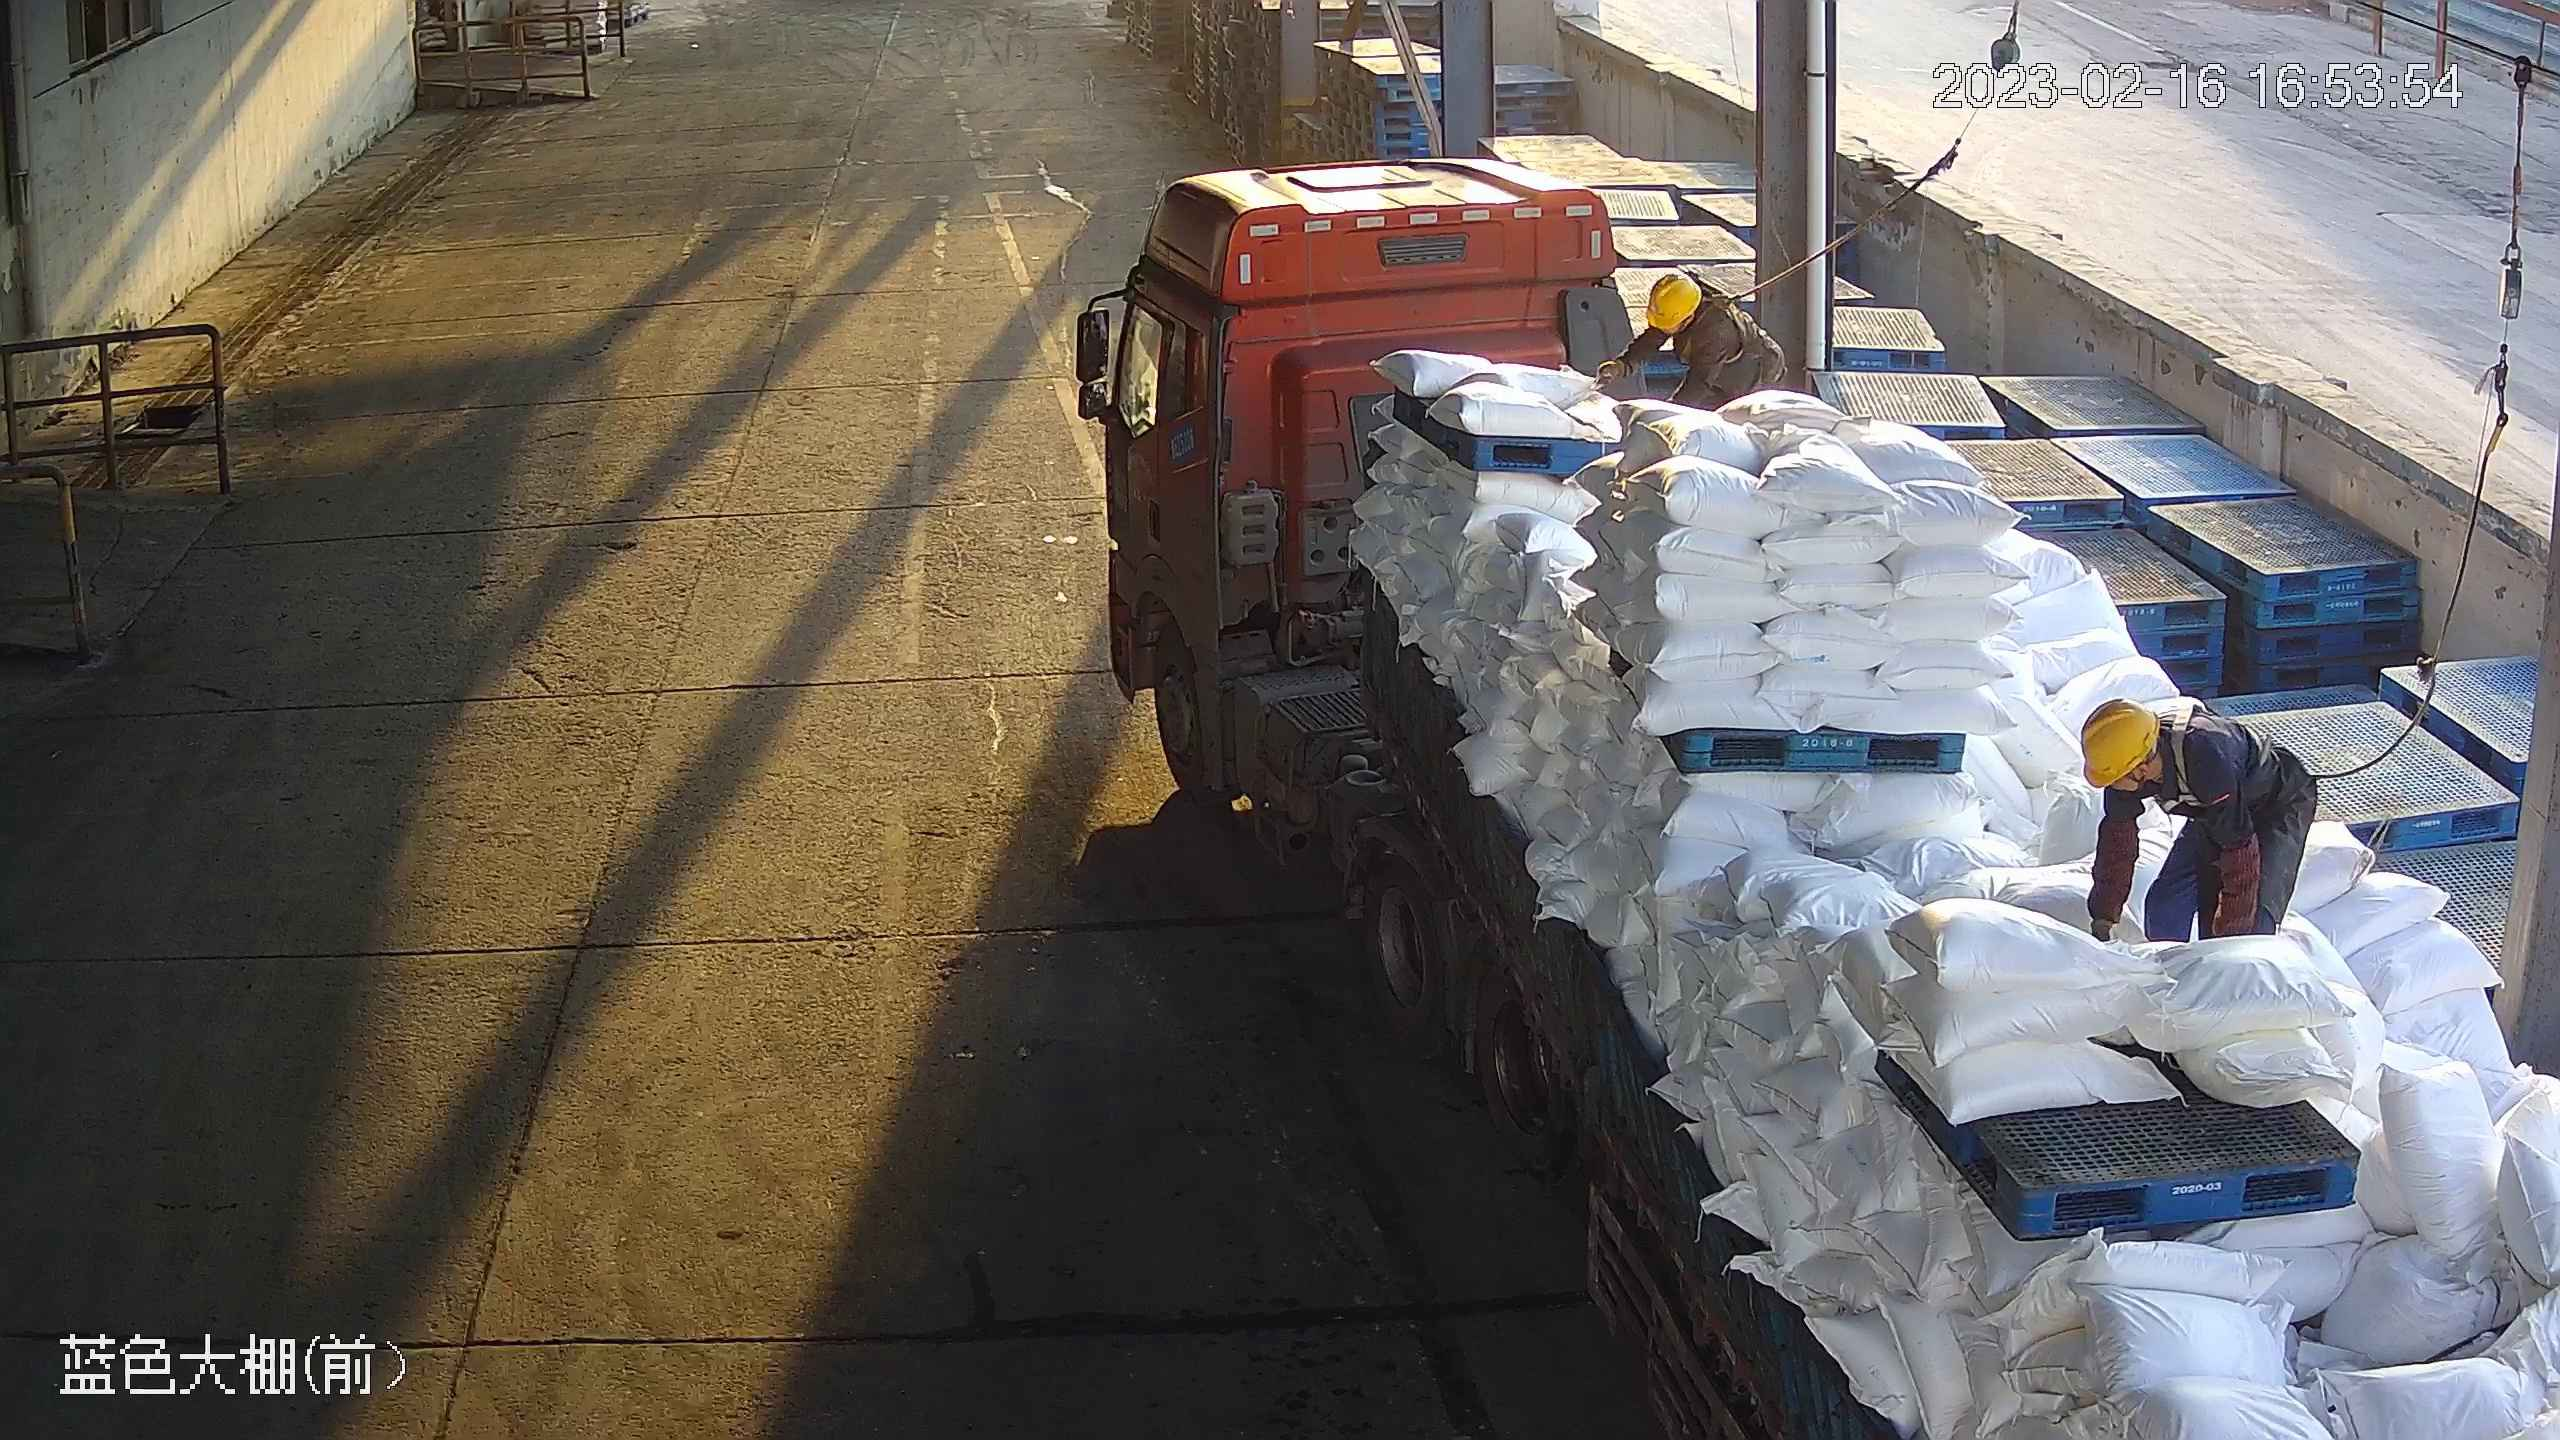belt: (2163, 715, 2234, 816), (1704, 292, 1769, 351)
head: (2077, 702, 2214, 808), (1635, 278, 1734, 357)
helmet: (2074, 701, 2160, 788), (1648, 274, 1704, 329)
people: (2074, 695, 2320, 946), (1597, 271, 1786, 416)
truck: (1076, 162, 2560, 1440)
